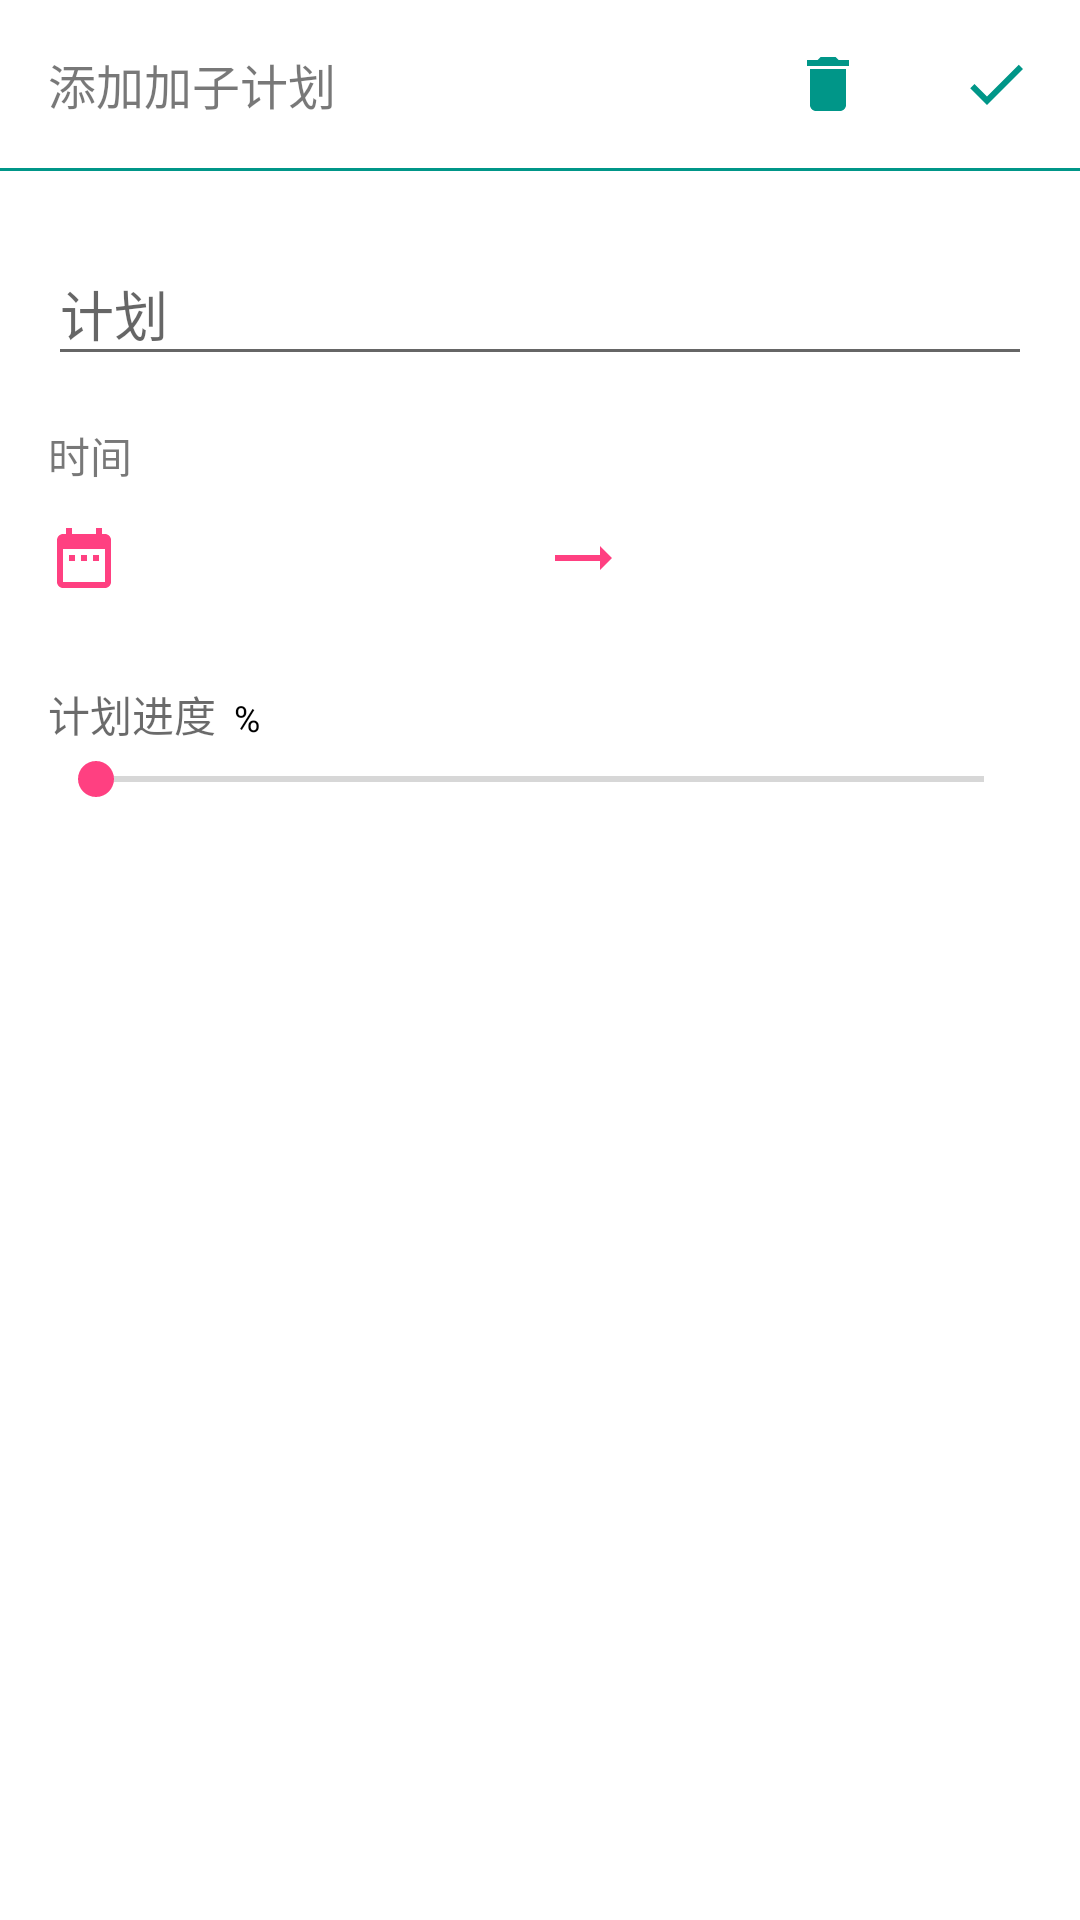

Icon bounding boxes for this 1080x1920 phone screenshot, format (x1,y1,x2,y2):
date range: (57,528,111,588)
delete: (807,57,849,111)
done: (970,65,1023,105)
right arrow: (555,546,612,570)
